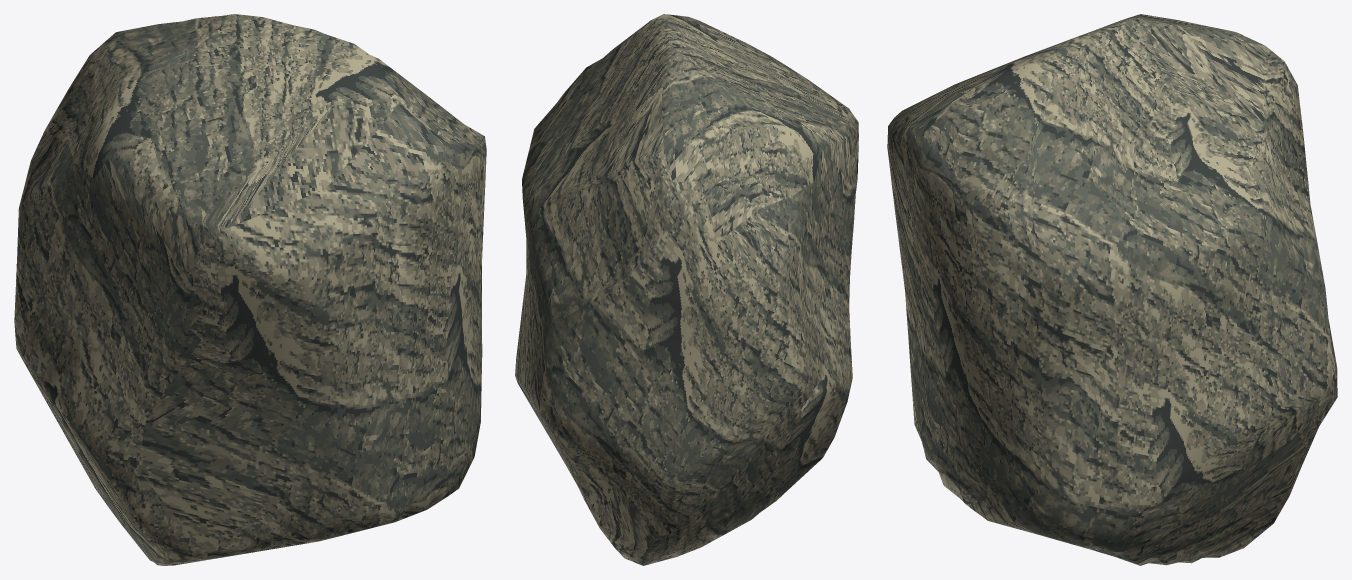
The model's file is rockHuge02.fbx.
3 views of the same model, side by side, from view 1: azimuth 30°, elevation 25°; view 2: azimuth 150°, elevation 25°; view 3: azimuth 270°, elevation 25° (orthographic). The views are drawn at different scales.
Parts seen in each view (by area): view 1: RockHuge02; view 2: RockHuge02; view 3: RockHuge02.
Boxes of the visible parts, box(x1,y1,x2,y2) form: RockHuge02: box(14, 14, 486, 565); RockHuge02: box(515, 14, 858, 565); RockHuge02: box(887, 14, 1337, 565).
Size of the model in its own units: 251 by 345 by 263.
